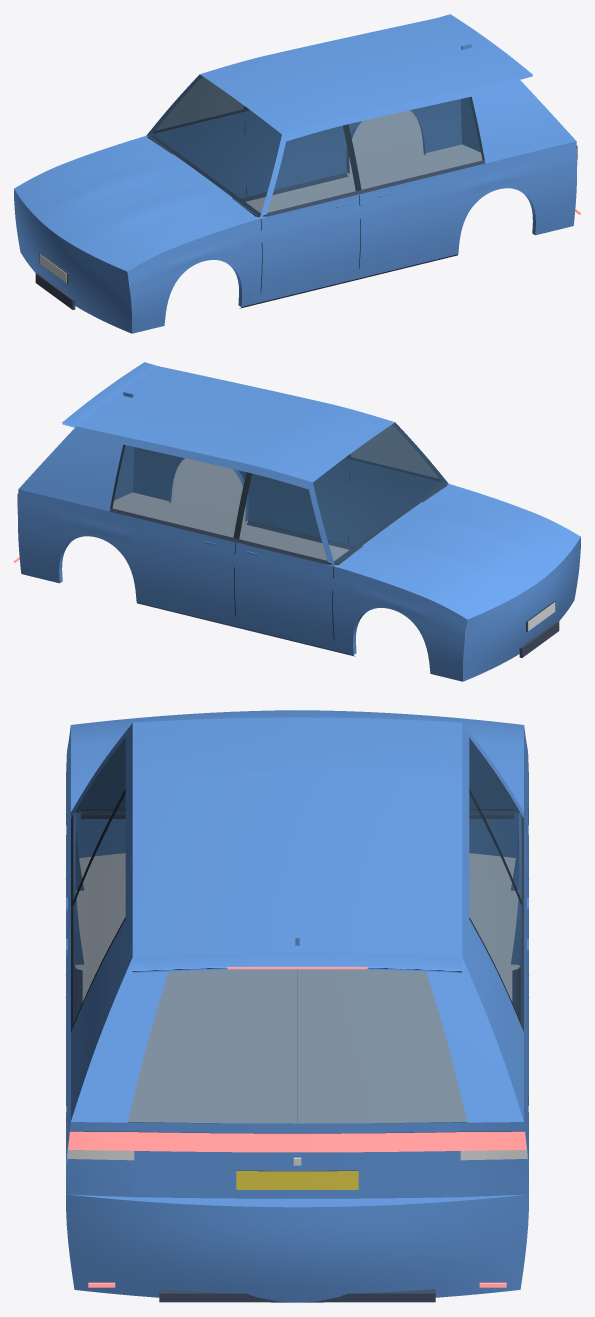
The model's file is hatchback.glb.
3 renders of one model, top to bottom at view 1: azimuth 30°, elevation 25°; view 2: azimuth 150°, elevation 25°; view 3: azimuth 270°, elevation 25°, orthographic. The views are drawn at different scales.
Visible parts, largest first — view 1: BodyShell, Tailgate; view 2: BodyShell, Tailgate; view 3: BodyShell, Tailgate.
Part boxes in pixels (x1,y1,x2,y2): BodyShell: [14, 18, 580, 333]; Tailgate: [436, 14, 532, 79]; BodyShell: [14, 366, 580, 681]; Tailgate: [62, 362, 158, 427]; BodyShell: [65, 710, 529, 1302]; Tailgate: [71, 952, 523, 1198].
Bounding box in the file's own units: 431 × 133 × 180.
